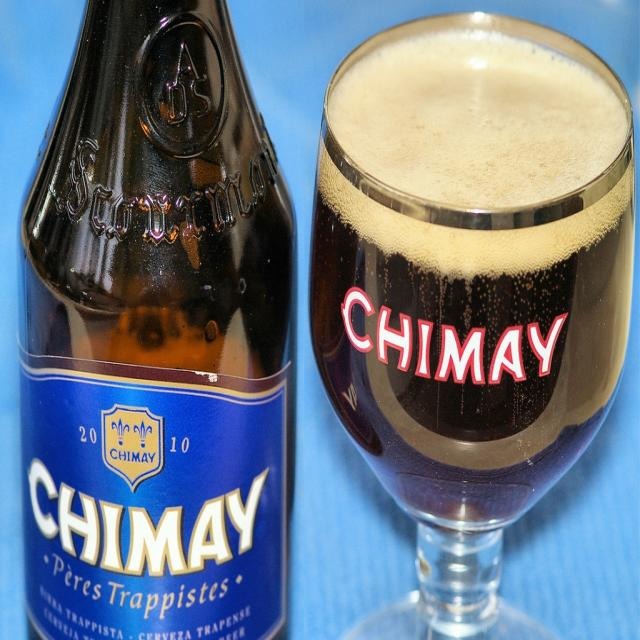chimay: (22, 362, 287, 640), (339, 279, 576, 399)
